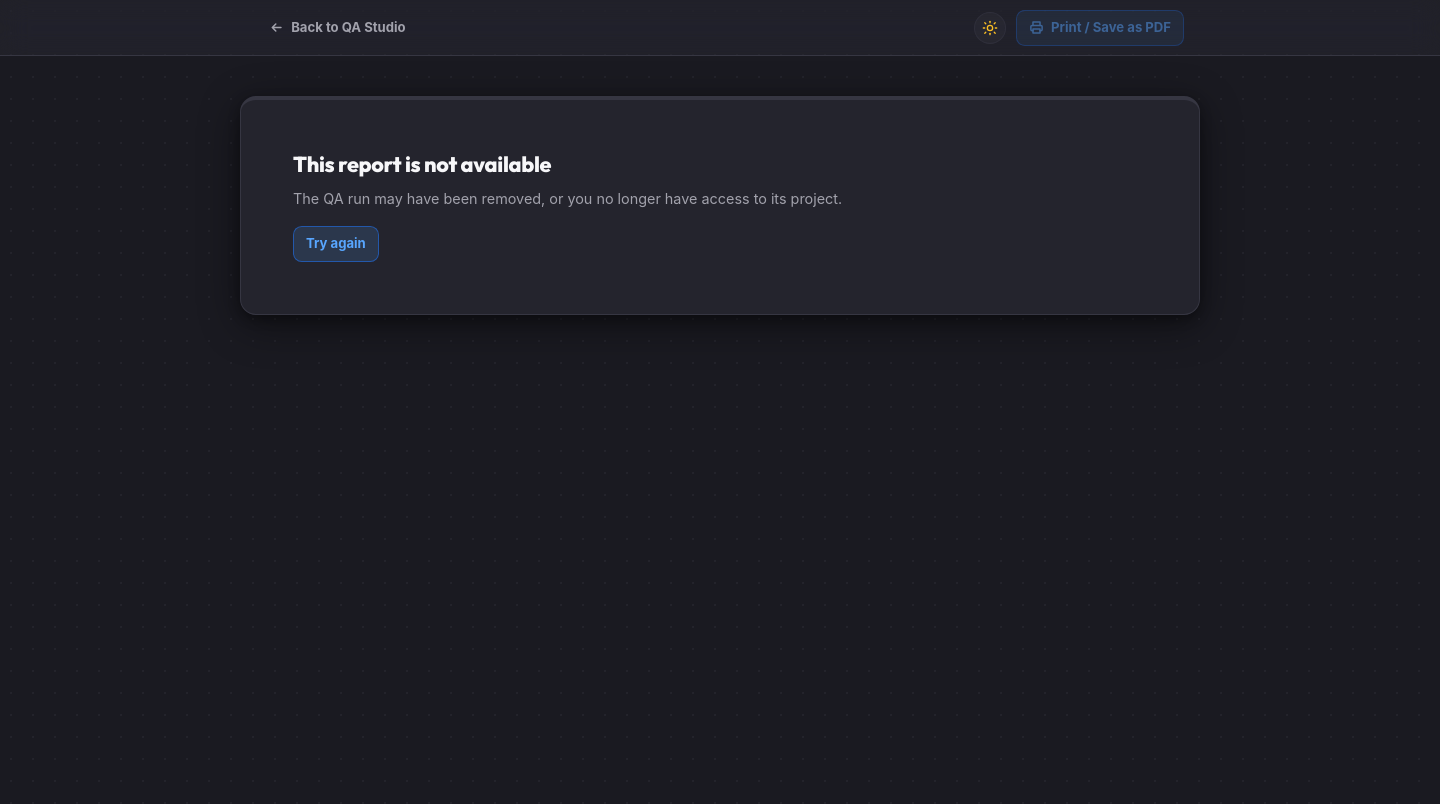
Test case: QaReportView › says 'This report is not available' on a 404, with a retry
Expected: the heading "This report is not available" is shown, [293,152,551,177]
Click the button "Try again" at (336, 244), box [293,226,379,262]
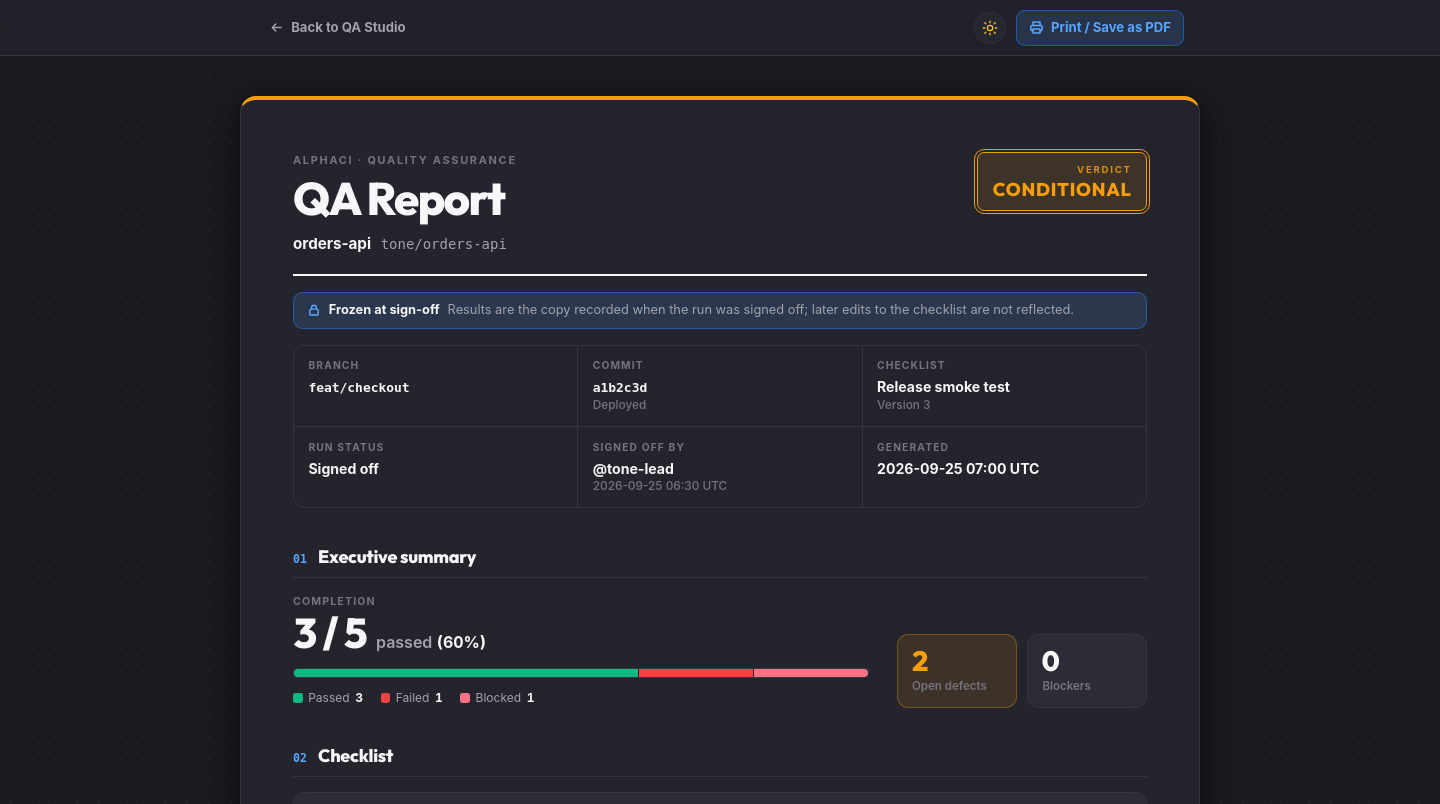
Expected: the heading "QA Report" is shown, [293,176,517,221]
